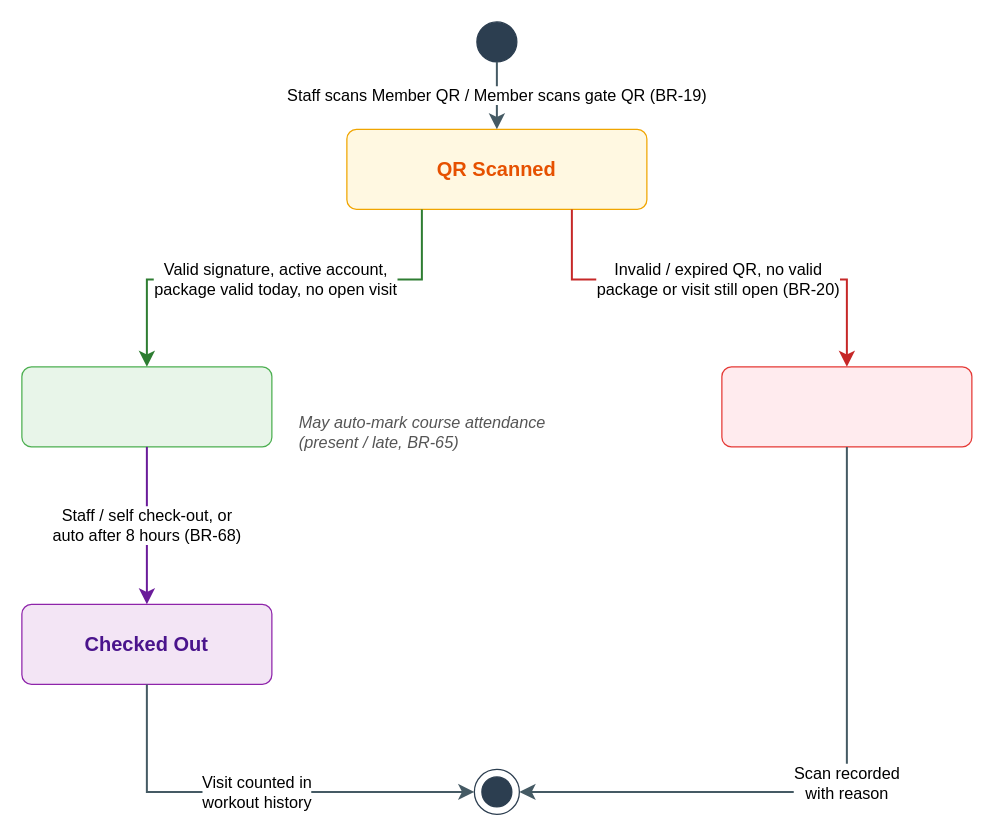
This 994x836 diagram has some shape labels left out. Each missing label, with the box of its shape:
Denied: (721, 366, 972, 447)
Granted (visit open): (21, 366, 272, 447)
